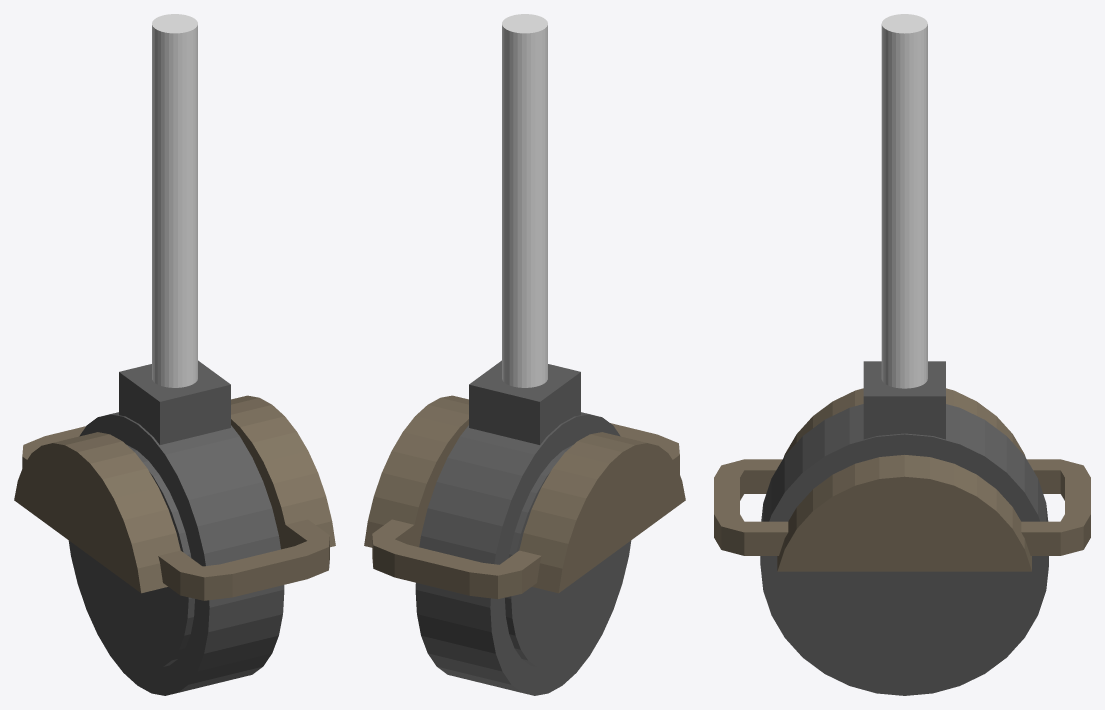
File: lever.fbx
3 views of the same model, side by side, from view 1: azimuth 30°, elevation 25°; view 2: azimuth 150°, elevation 25°; view 3: azimuth 270°, elevation 25° (orthographic).
Visible parts, largest first — view 1: Cube.001, Cylinder.005; view 2: Cube.001, Cylinder.005; view 3: Cube.001, Cylinder.005.
Boxes of the visible parts, x1=… form: Cube.001: x1=68, y1=14, x2=284, y2=695; Cylinder.005: x1=14, y1=395, x2=335, y2=600; Cube.001: x1=415, y1=14, x2=631, y2=695; Cylinder.005: x1=364, y1=395, x2=685, y2=599; Cube.001: x1=760, y1=14, x2=1048, y2=695; Cylinder.005: x1=714, y1=388, x2=1090, y2=571.
Bounding box in the file's own units: 156 × 500 × 261.
